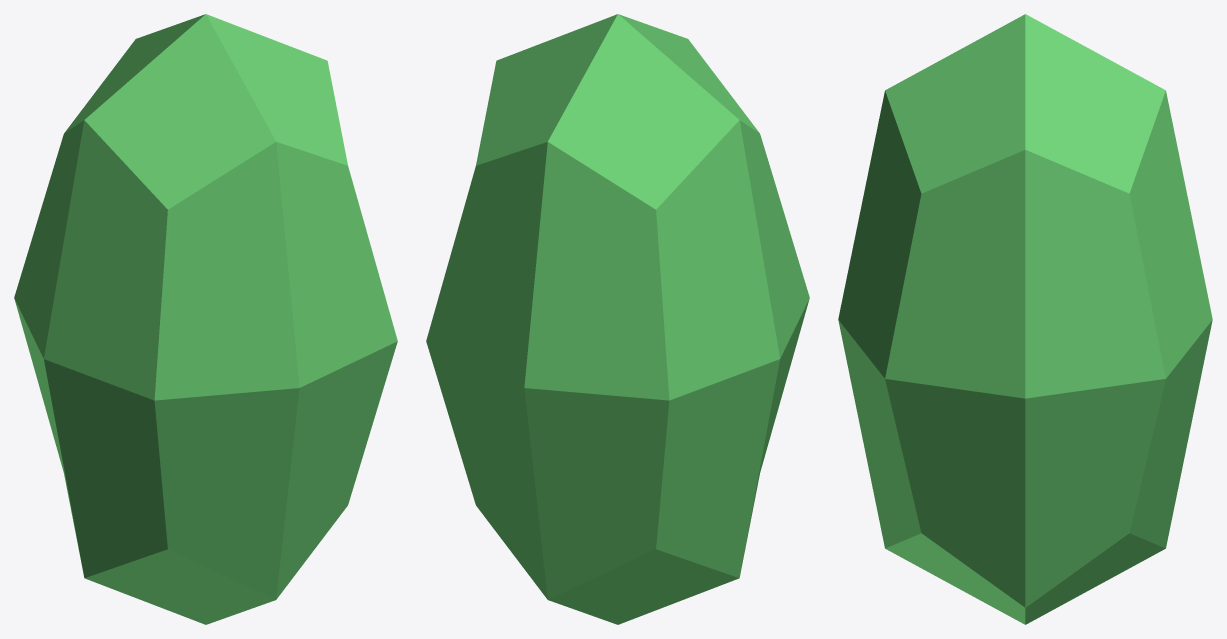
The model's file is gem.dae.
The picture shows the model from 3 angles, left to right: view 1: azimuth 30°, elevation 25°; view 2: azimuth 150°, elevation 25°; view 3: azimuth 270°, elevation 25°; orthographic projection.
Parts seen in each view (by area): view 1: 立方体; view 2: 立方体; view 3: 立方体.
Part boxes in pixels (x1,y1,x2,y2): 立方体: [14, 14, 397, 624]; 立方体: [426, 14, 809, 624]; 立方体: [838, 14, 1212, 624].
Size of the model in its own units: 2 by 2 by 3.6.
